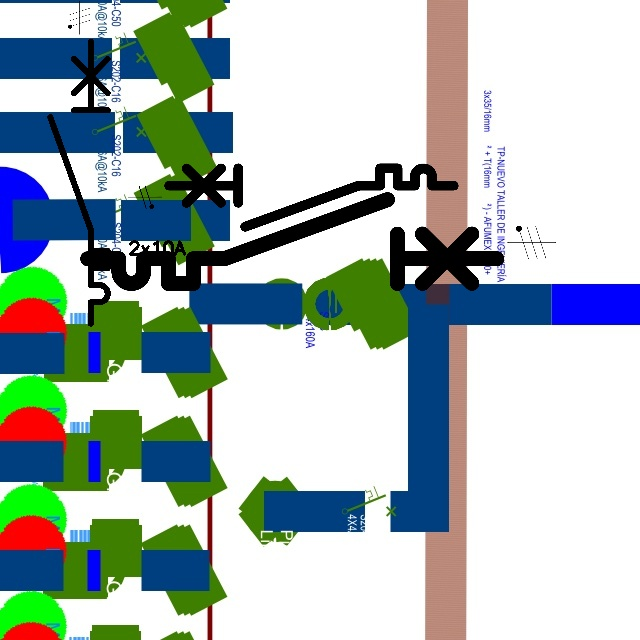interruptor_termomagnetico: (77, 189, 507, 294), (161, 161, 460, 234), (43, 34, 115, 331)
